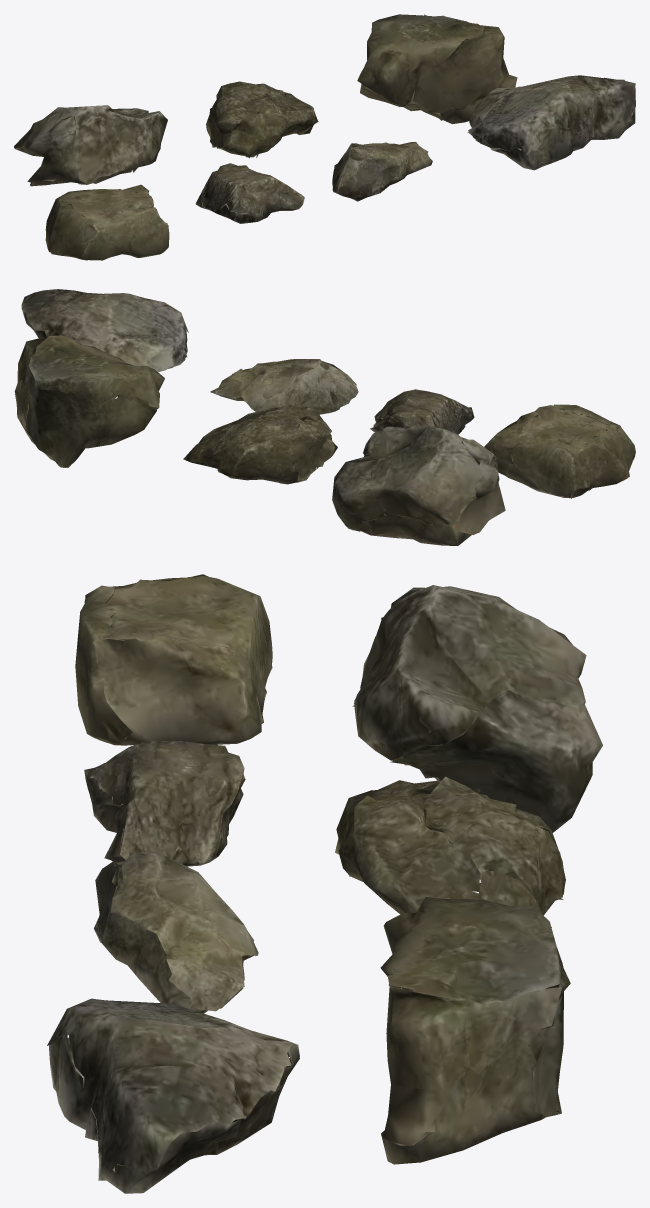
Rendered from rock_moss_set_02.glb.
3 renders of one model, top to bottom at view 1: azimuth 30°, elevation 25°; view 2: azimuth 150°, elevation 25°; view 3: azimuth 270°, elevation 25°, orthographic. The views are drawn at different scales.
Parts seen in each view (by area): view 1: rock_moss_set_02_rock13, rock_moss_set_02_rock10, rock_moss_set_02_rock11, rock_moss_set_02_rock07, rock_moss_set_02_rock12, rock_moss_set_02_rock08, rock_moss_set_02_rock09; view 2: rock_moss_set_02_rock11, rock_moss_set_02_rock13, rock_moss_set_02_rock07, rock_moss_set_02_rock10, rock_moss_set_02_rock12, rock_moss_set_02_rock09, rock_moss_set_02_rock08; view 3: rock_moss_set_02_rock13, rock_moss_set_02_rock11, rock_moss_set_02_rock10, rock_moss_set_02_rock07, rock_moss_set_02_rock12, rock_moss_set_02_rock09, rock_moss_set_02_rock08.
Part boxes in pixels (x1,y1,x2,y2): rock_moss_set_02_rock13: [357, 14, 517, 124]; rock_moss_set_02_rock10: [467, 75, 635, 170]; rock_moss_set_02_rock11: [14, 105, 167, 186]; rock_moss_set_02_rock07: [45, 184, 169, 260]; rock_moss_set_02_rock12: [206, 81, 318, 158]; rock_moss_set_02_rock08: [195, 163, 304, 223]; rock_moss_set_02_rock09: [332, 142, 432, 201]; rock_moss_set_02_rock11: [332, 426, 505, 545]; rock_moss_set_02_rock13: [14, 335, 164, 467]; rock_moss_set_02_rock07: [484, 404, 635, 498]; rock_moss_set_02_rock10: [21, 289, 188, 372]; rock_moss_set_02_rock12: [183, 405, 337, 484]; rock_moss_set_02_rock09: [210, 359, 358, 414]; rock_moss_set_02_rock08: [370, 389, 474, 434]; rock_moss_set_02_rock13: [380, 897, 570, 1164]; rock_moss_set_02_rock11: [352, 585, 602, 832]; rock_moss_set_02_rock10: [47, 998, 299, 1193]; rock_moss_set_02_rock07: [75, 574, 272, 745]; rock_moss_set_02_rock12: [335, 776, 565, 927]; rock_moss_set_02_rock09: [94, 850, 258, 1013]; rock_moss_set_02_rock08: [84, 741, 245, 866].
Size of the model in its own units: 8.28 by 1.38 by 3.42.
Materials: 1 (1 with a texture image).
